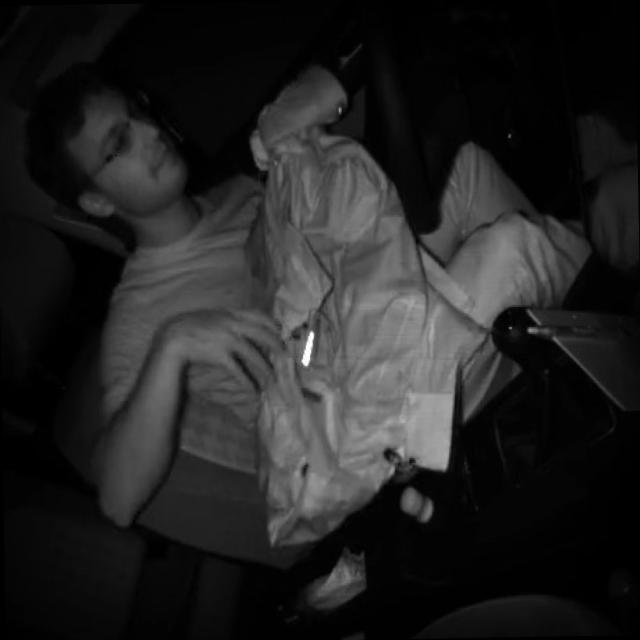pen: (524, 322, 636, 340)
